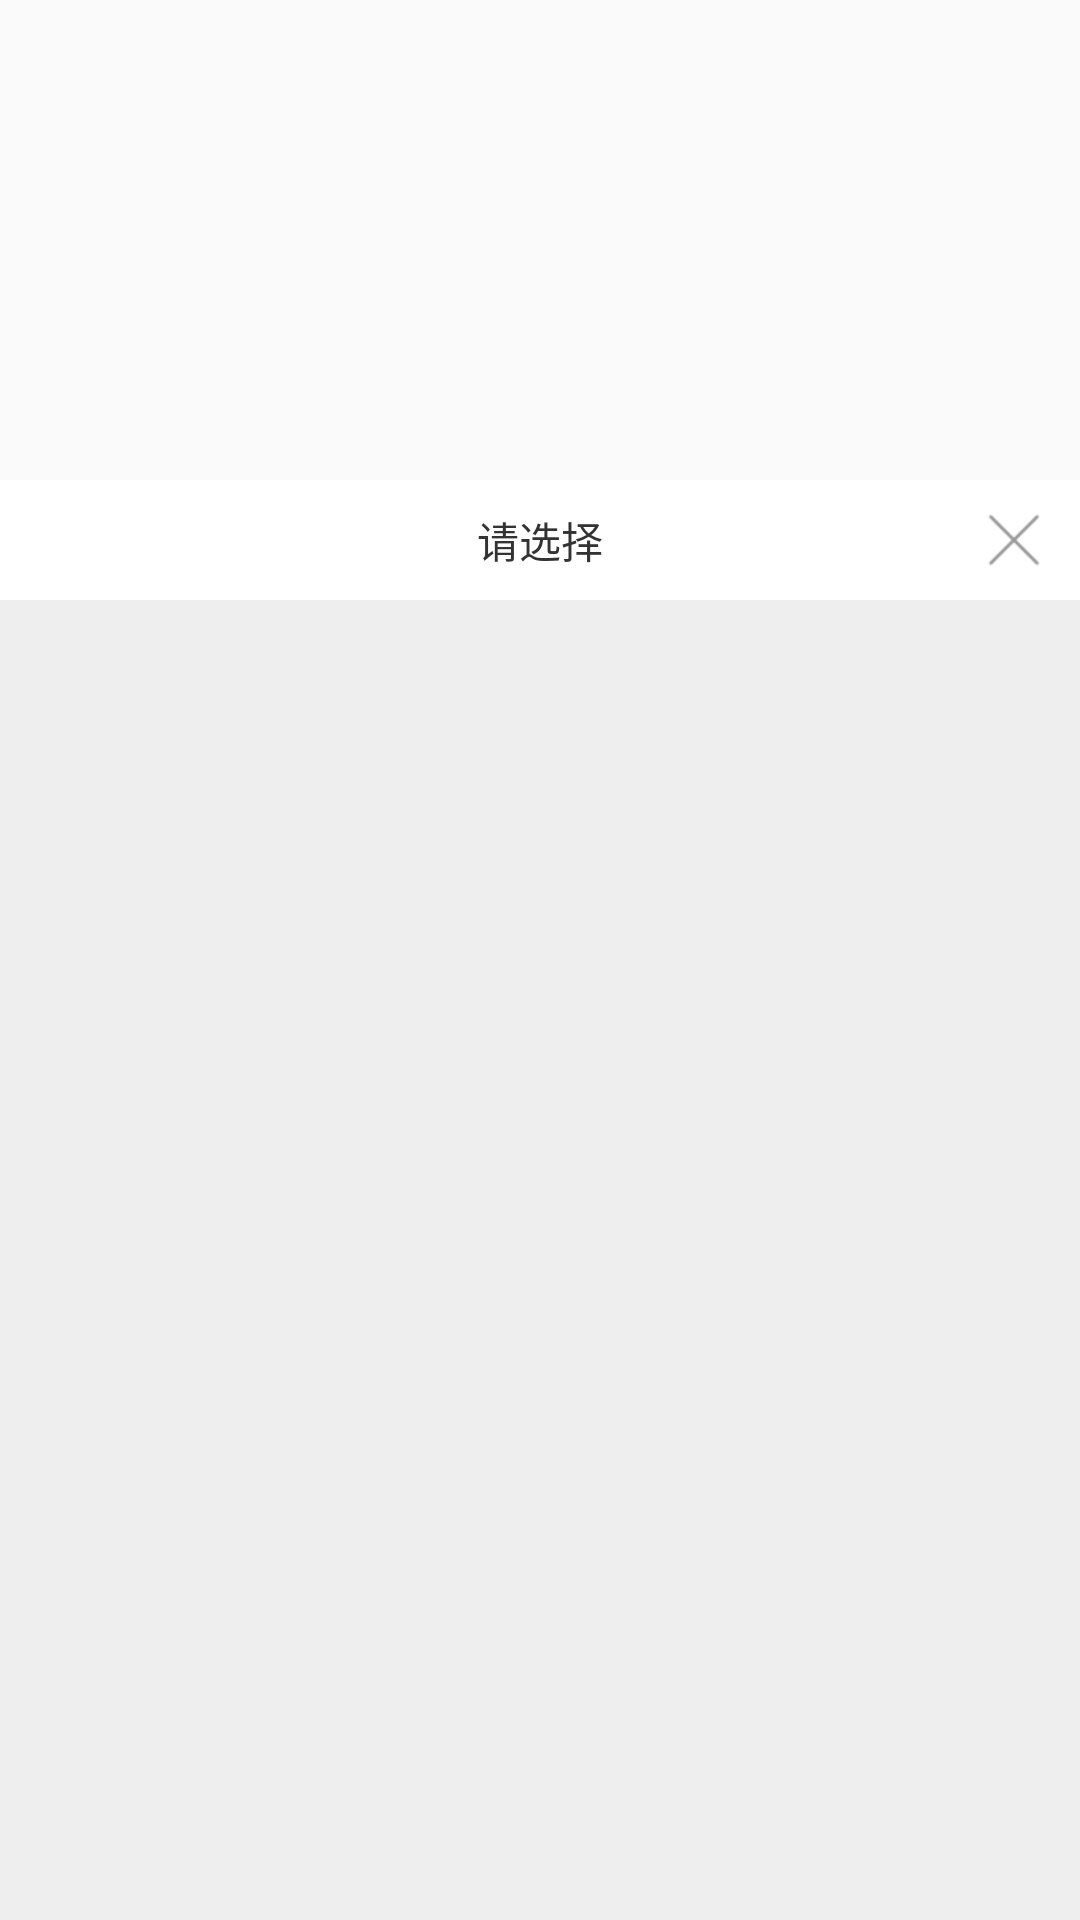

Icon click points for this 1080w x 1920h phone screenshot, format (x=x, y=y):
close: (x=1014, y=540)
